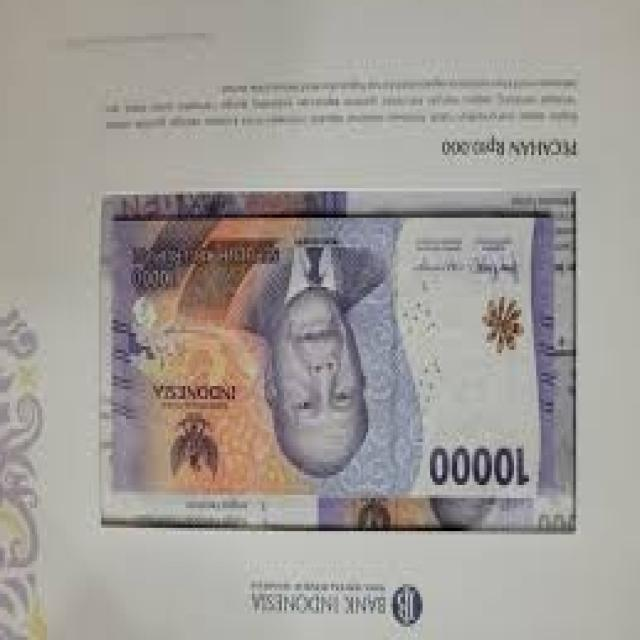sepuluh ribu rupiah: (110, 220, 555, 495)
